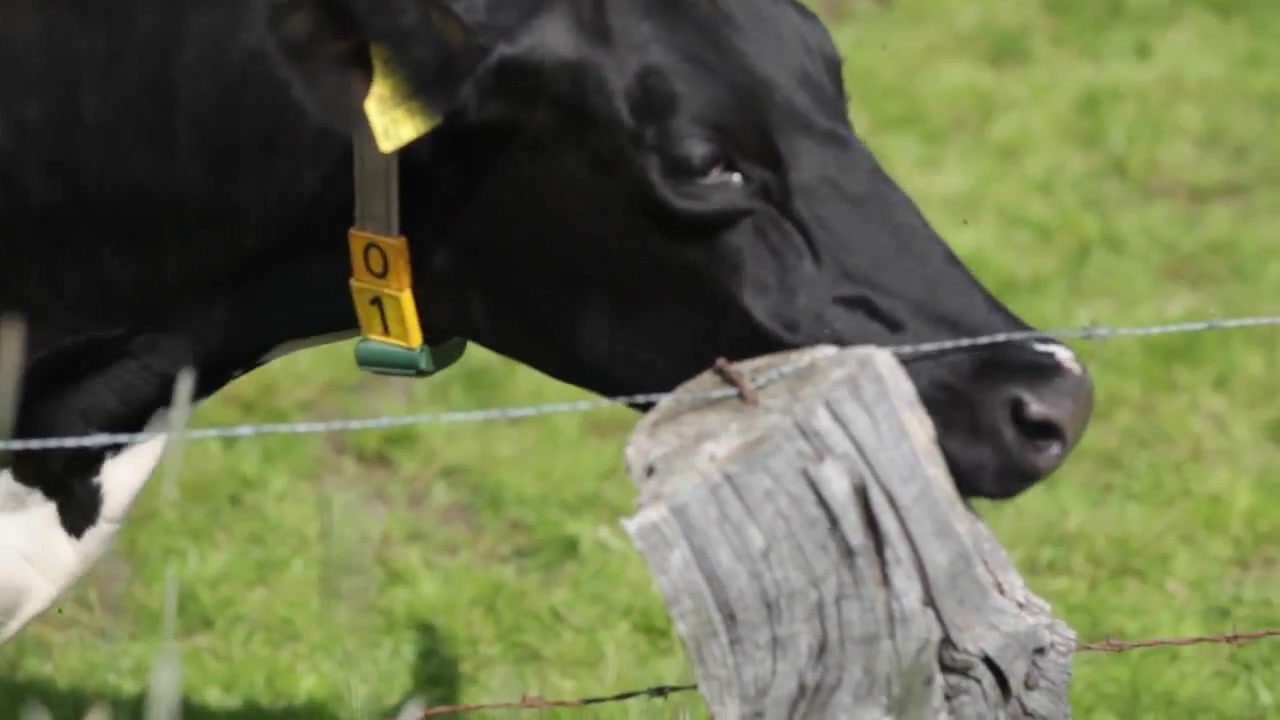cow: (1, 2, 1101, 653)
